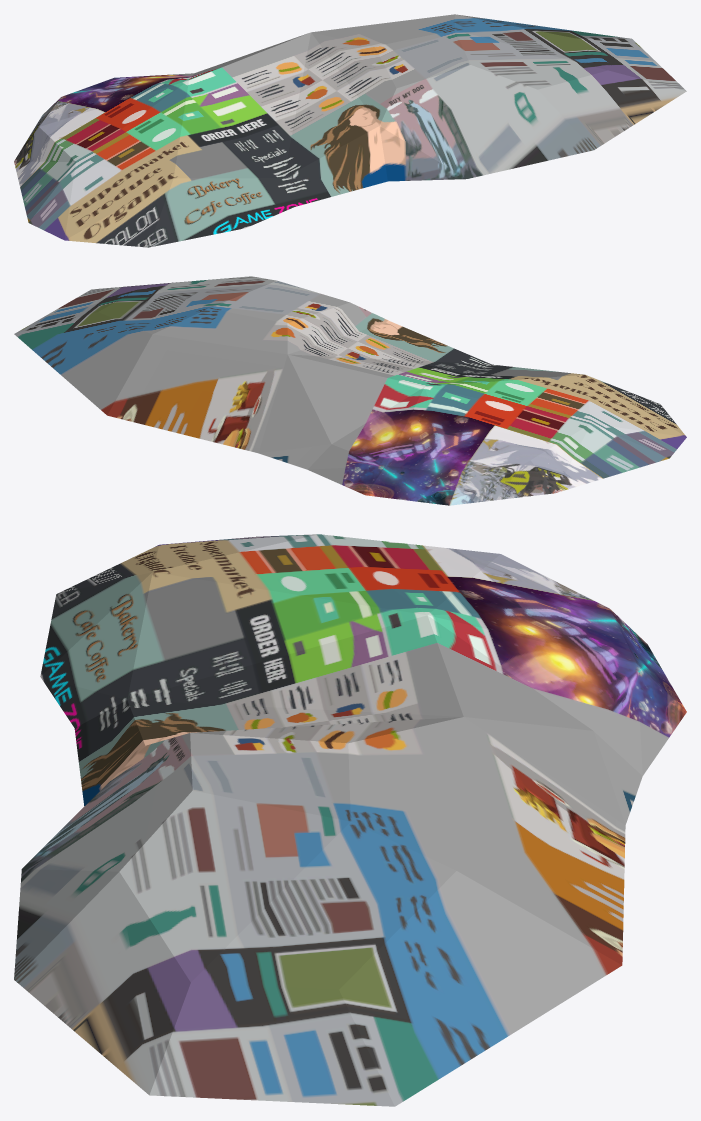
The model's file is SM_Prop_Dumpster_Rubbish_01.obj.
The picture shows the model from 3 angles, top to bottom: view 1: azimuth 30°, elevation 25°; view 2: azimuth 150°, elevation 25°; view 3: azimuth 270°, elevation 25°; orthographic projection. The views are drawn at different scales.
Parts seen in each view (by area): view 1: SM_Prop_Dumpster_Rubbish_01_0; view 2: SM_Prop_Dumpster_Rubbish_01_0; view 3: SM_Prop_Dumpster_Rubbish_01_0.
Part boxes in pixels (<box>): SM_Prop_Dumpster_Rubbish_01_0: <box>14,14,686,247</box>; SM_Prop_Dumpster_Rubbish_01_0: <box>14,276,686,505</box>; SM_Prop_Dumpster_Rubbish_01_0: <box>14,534,686,1106</box>.
Bounding box in the file's own units: 3.5 × 0.353 × 1.75.
1 material, 1 textured.
